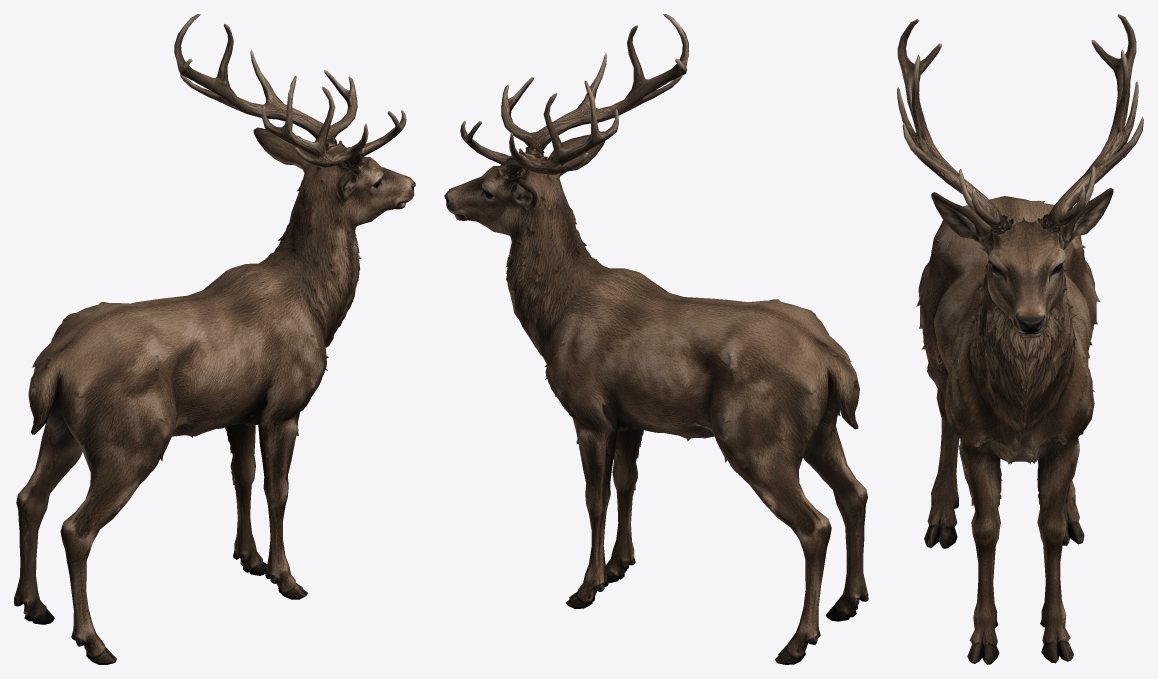
3 views of the same model, side by side, from view 1: azimuth 30°, elevation 25°; view 2: azimuth 150°, elevation 25°; view 3: azimuth 270°, elevation 25° (orthographic). The views are drawn at different scales.
Visible parts, largest first — view 1: tripo_node_a5521383-f99e-4428-ad84-9a42af4c67f7; view 2: tripo_node_a5521383-f99e-4428-ad84-9a42af4c67f7; view 3: tripo_node_a5521383-f99e-4428-ad84-9a42af4c67f7.
Part boxes in pixels (x1,y1,x2,y2): tripo_node_a5521383-f99e-4428-ad84-9a42af4c67f7: [14, 14, 415, 664]; tripo_node_a5521383-f99e-4428-ad84-9a42af4c67f7: [444, 14, 868, 664]; tripo_node_a5521383-f99e-4428-ad84-9a42af4c67f7: [897, 14, 1143, 664].
Bounding box in the file's own units: 1.36 × 1.8 × 0.6441.
Materials: 1 (1 with a texture image).
